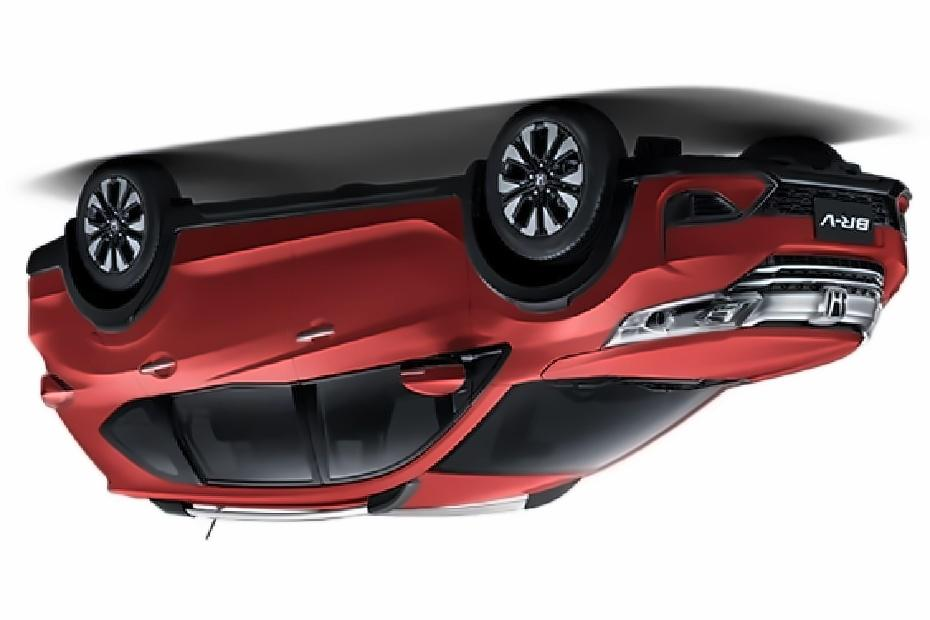Car hood: (539, 319, 865, 389)
Fender - -F-L-: (468, 184, 631, 397)
Fender - -R-L-: (59, 291, 128, 434)
Front bumper: (590, 155, 922, 315)
Headlight - -L-: (601, 281, 764, 362)
Passenger-s door - -F-L-: (291, 190, 467, 498)
Passenger-s door - -R-L-: (123, 209, 293, 500)
Rear bumper: (16, 220, 95, 362)
Rear light - -L-: (29, 370, 79, 416)
Side bumper - -L-: (156, 171, 480, 238)
Side mirror - -L-: (394, 358, 480, 412)
